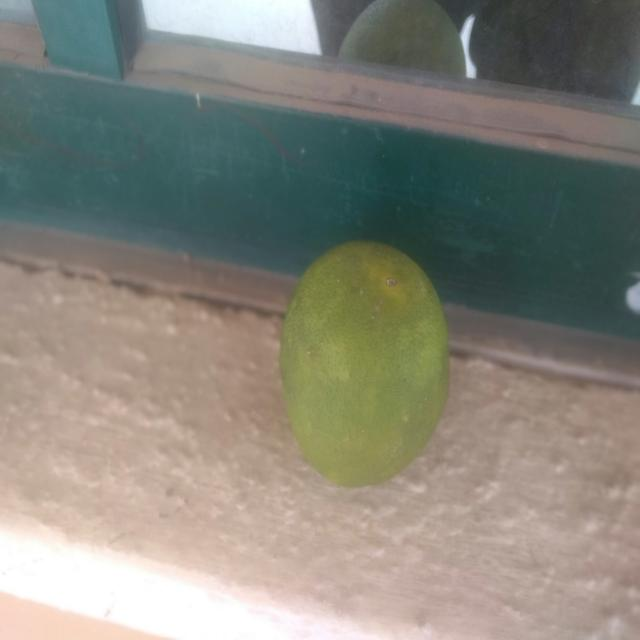Unripe: (260, 217, 470, 512)
